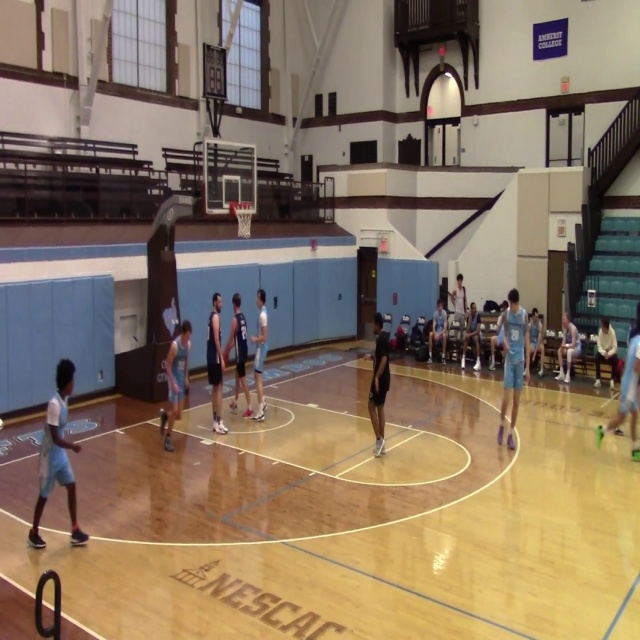Basketball: (438, 46, 445, 56)
